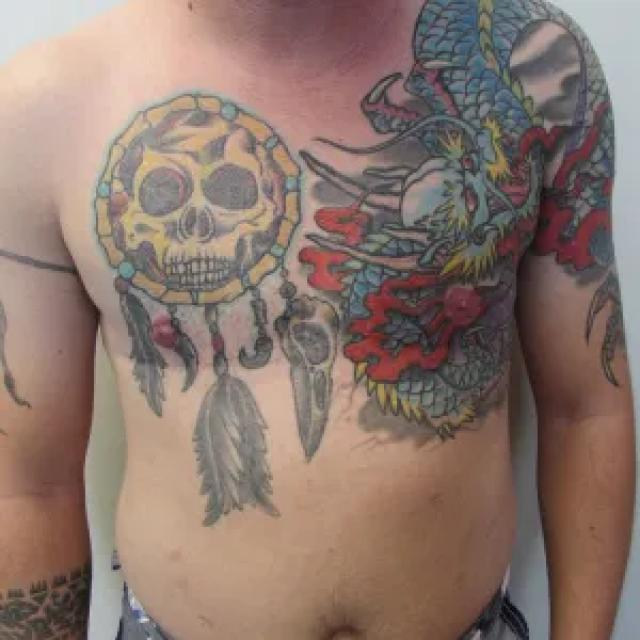Seno herido: (50, 180, 298, 391)
Seno ileso: (310, 153, 538, 373)
